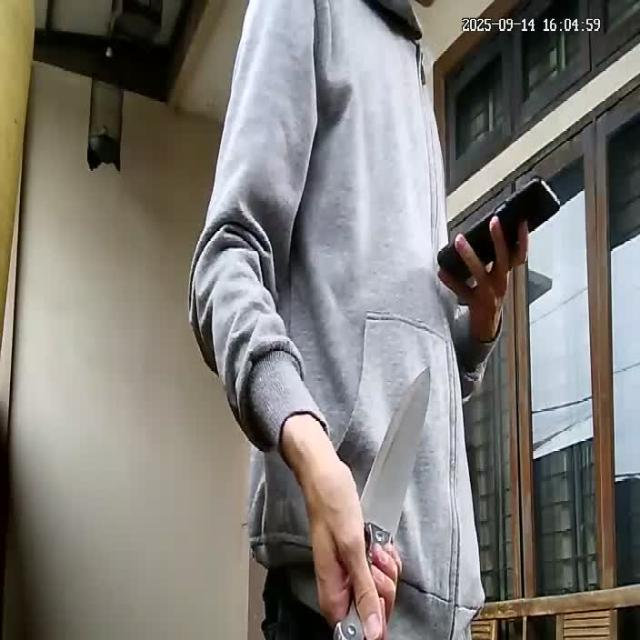senjata_tajam: (357, 364, 434, 545)
